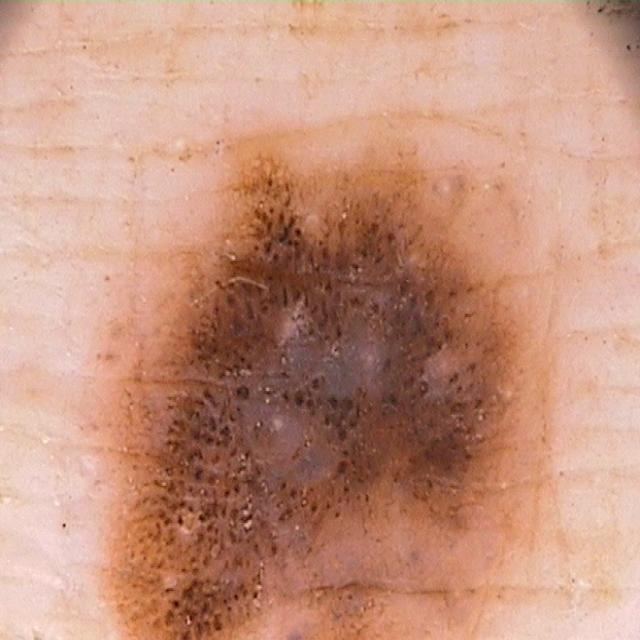Melanoma: (59, 118, 554, 640)
